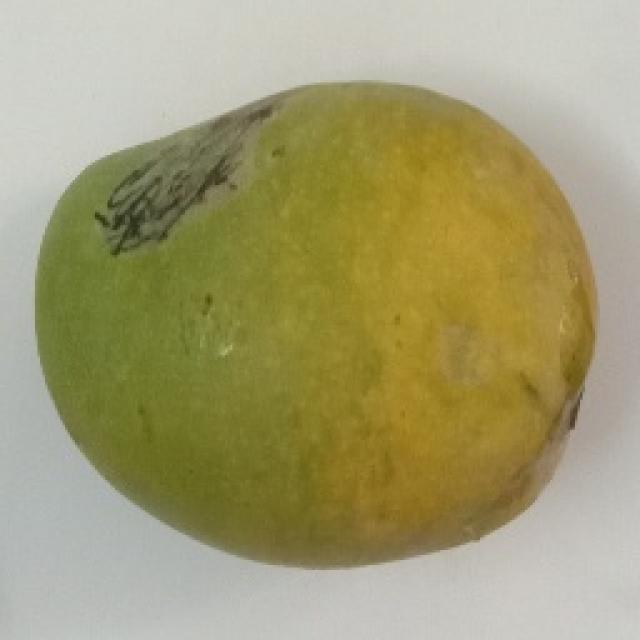defective: (32, 75, 598, 570)
